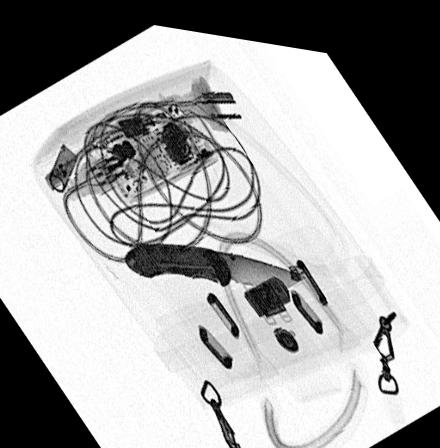Knife: (120, 234, 307, 282)
